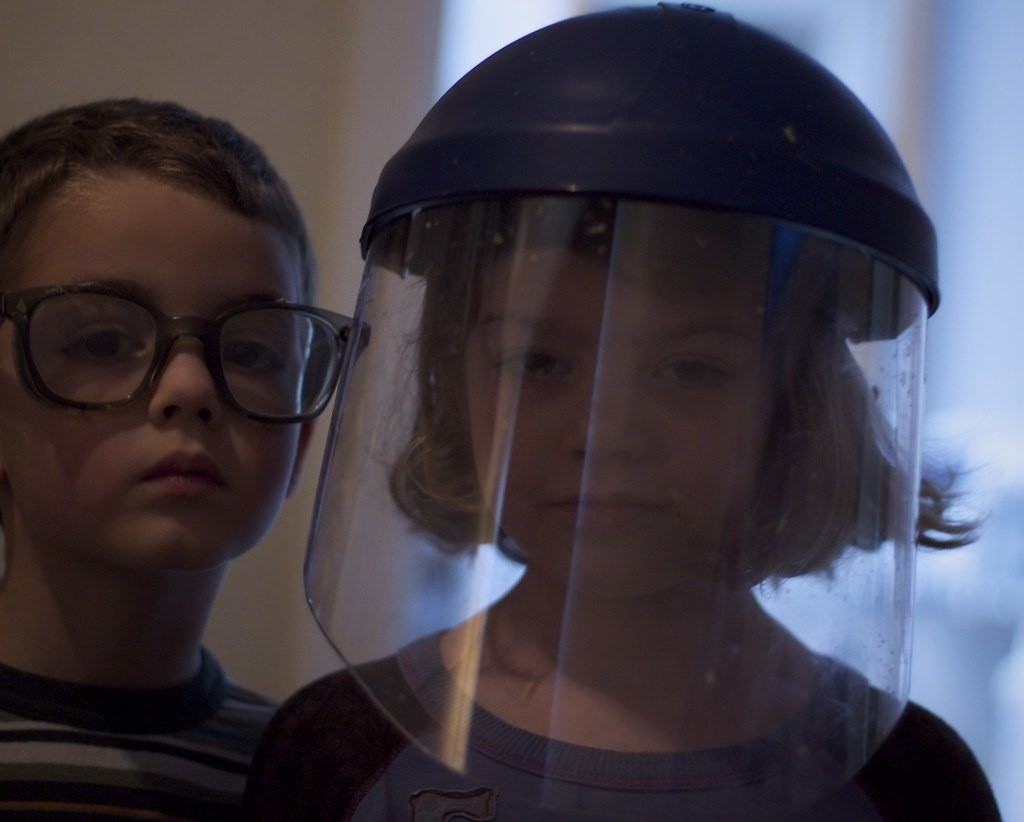face_no_mask: (1, 143, 327, 577), (454, 245, 788, 582)
